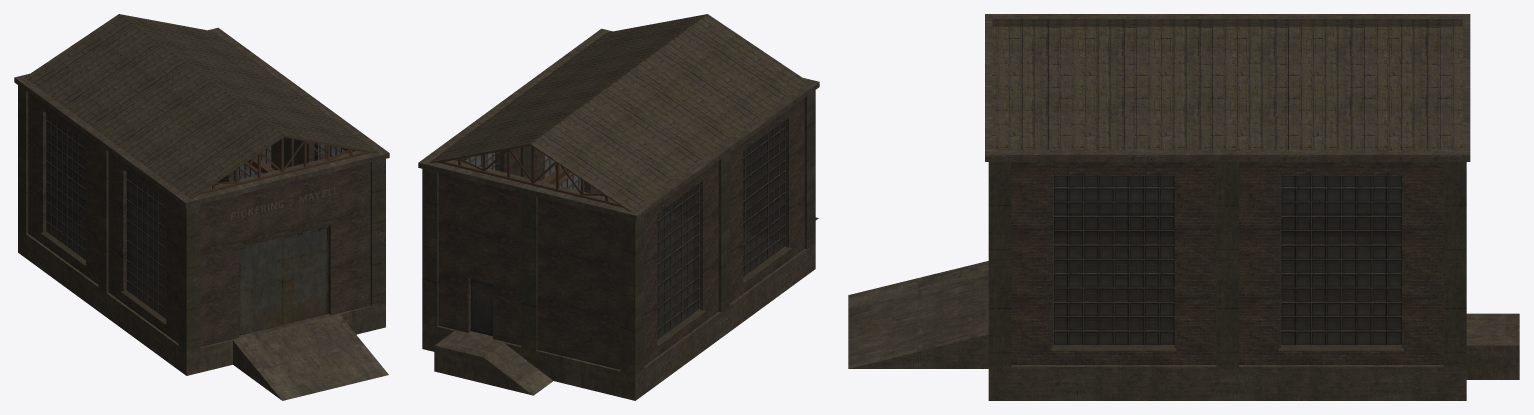
File: warehouse_mx_1.obj
3 renders of one model, left to right at view 1: azimuth 30°, elevation 25°; view 2: azimuth 150°, elevation 25°; view 3: azimuth 270°, elevation 25°, orthographic. The views are drawn at different scales.
Visible parts, largest first — view 1: warehouse_mx_1, garage_door_hr_4_piece_2, garage_door_hr_4_piece_1, building_sign_mx_1; view 2: warehouse_mx_1, door_hr_5; view 3: warehouse_mx_1.
Part boxes in pixels (box(x1,y1,x2,y2)): warehouse_mx_1: box(14, 14, 389, 400); garage_door_hr_4_piece_2: box(283, 226, 328, 324); garage_door_hr_4_piece_1: box(239, 237, 282, 335); building_sign_mx_1: box(231, 187, 337, 220); warehouse_mx_1: box(418, 14, 819, 400); door_hr_5: box(471, 279, 492, 336); warehouse_mx_1: box(848, 14, 1519, 400).
Bounding box in the file's own units: 8.8 × 8.87 × 17.7.
